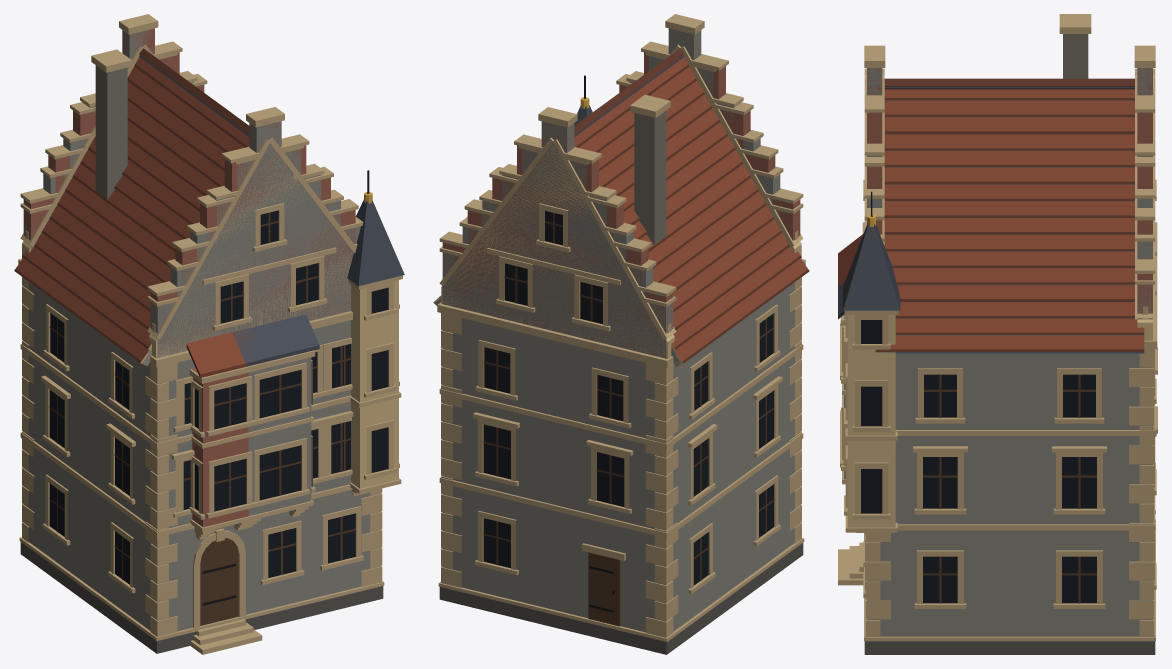
Rendered from einwohner_ratsherrenhaus.glb.
3 views of the same model, side by side, from view 1: azimuth 30°, elevation 25°; view 2: azimuth 150°, elevation 25°; view 3: azimuth 270°, elevation 25° (orthographic). The views are drawn at different scales.
Visible parts, largest first — view 1: Variante1, Variante2, Variante3; view 2: Variante1, Variante2, Variante3; view 3: Variante1, Variante2, Variante3.
Part boxes in pixels (box(x1,y1,x2,y2)): Variante1: box(18, 23, 384, 654); Variante2: box(14, 44, 404, 515); Variante3: box(20, 14, 358, 539); Variante1: box(435, 23, 805, 654); Variante2: box(433, 44, 809, 366); Variante3: box(439, 14, 803, 356); Variante1: box(838, 30, 1157, 654); Variante2: box(843, 14, 1155, 534); Variante3: box(838, 45, 1155, 438).
Bounding box in the file's own units: 7.96 × 15.55 × 8.28.
